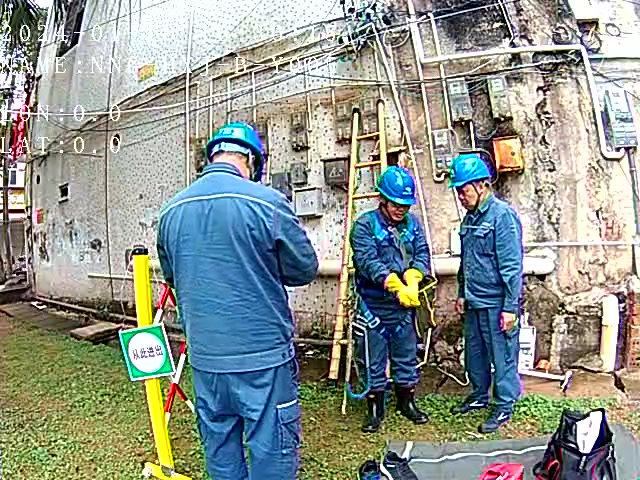downsuit: (191, 368, 304, 480), (464, 311, 524, 412), (365, 320, 419, 388)
halt: (205, 122, 266, 175), (447, 154, 495, 209), (377, 166, 417, 220)
hand: (497, 312, 518, 333), (454, 297, 467, 316)
inear: (471, 177, 491, 204)
intosign: (119, 320, 176, 383)
longglove: (381, 267, 424, 308)
person: (152, 120, 320, 480), (348, 166, 434, 426), (449, 152, 528, 426)
safebelt: (350, 205, 429, 345)
shoe: (396, 386, 429, 425), (363, 390, 386, 431)
upsuit: (152, 165, 319, 364), (349, 210, 432, 309), (458, 194, 526, 302)
